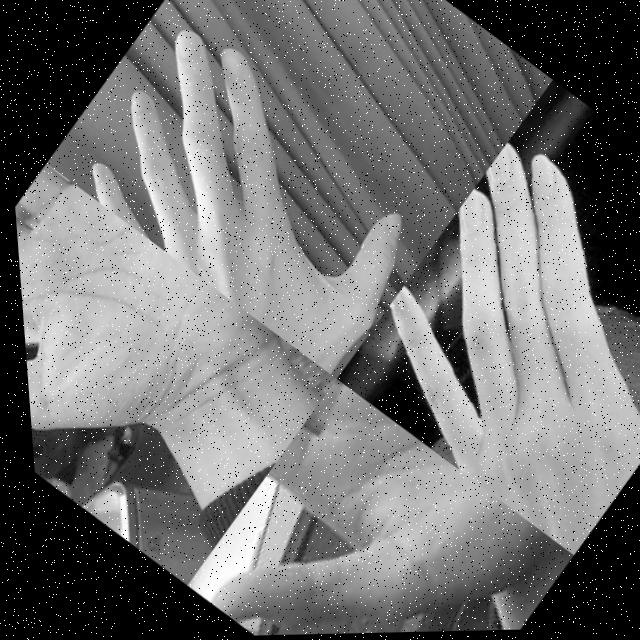hand: (58, 10, 463, 384), (316, 131, 640, 561), (165, 376, 541, 638), (9, 159, 271, 533)
